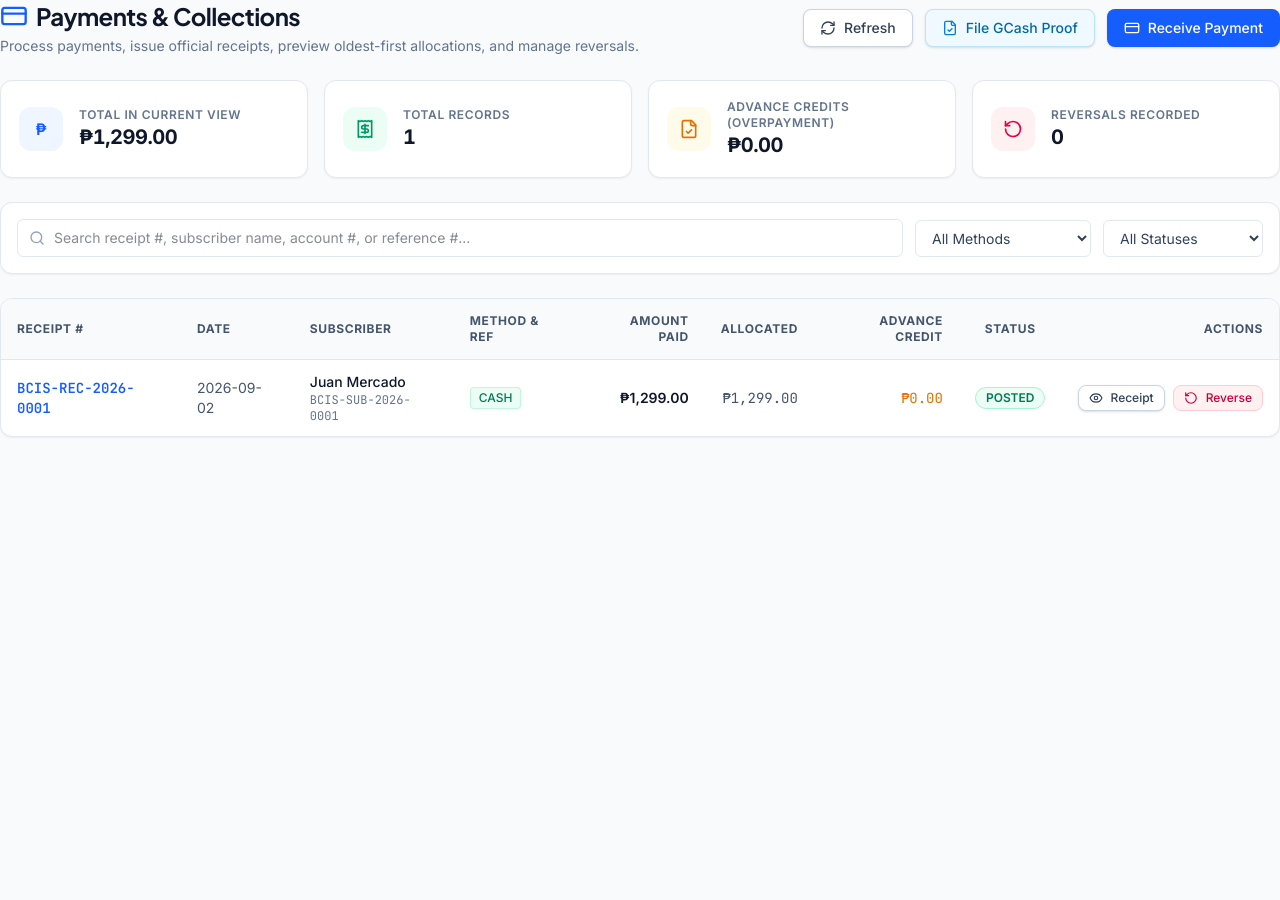
Test: PaymentsPage Component (Phase 4 - AT-01 to AT-06) › opens receive payment modal when 'Receive Payment' button is clicked
Click the button "Receive Payment" at (1193, 28), box x1=1107 y1=9 x2=1279 y2=47
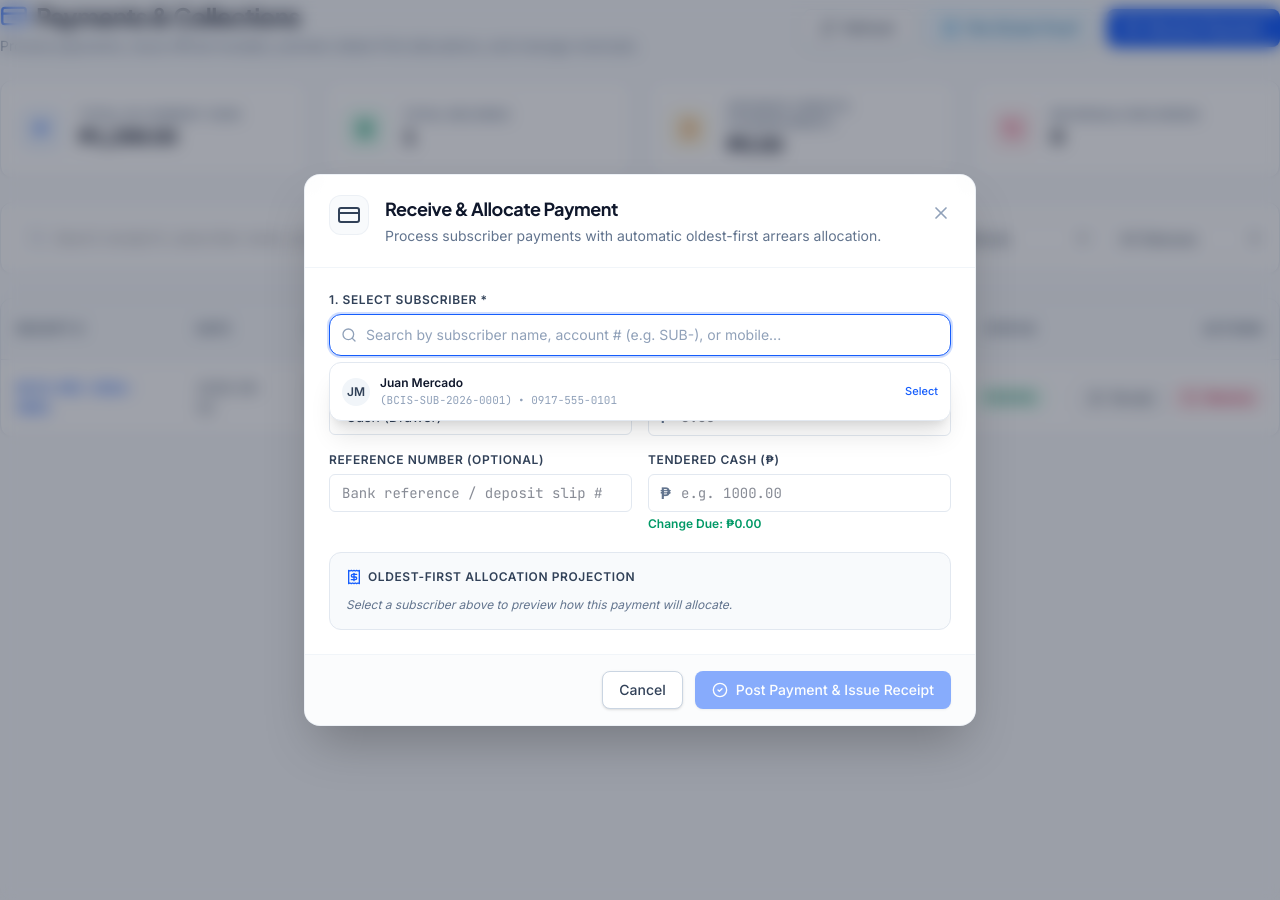
Expected: the heading "Receive & Allocate Payment" is shown, x1=385 y1=197 x2=618 y2=220
Expected: the text "1. Select Subscriber *" is shown, x1=329 y1=292 x2=488 y2=307
Expected: the text "2. Payment Method *" is shown, x1=329 y1=376 x2=479 y2=391
